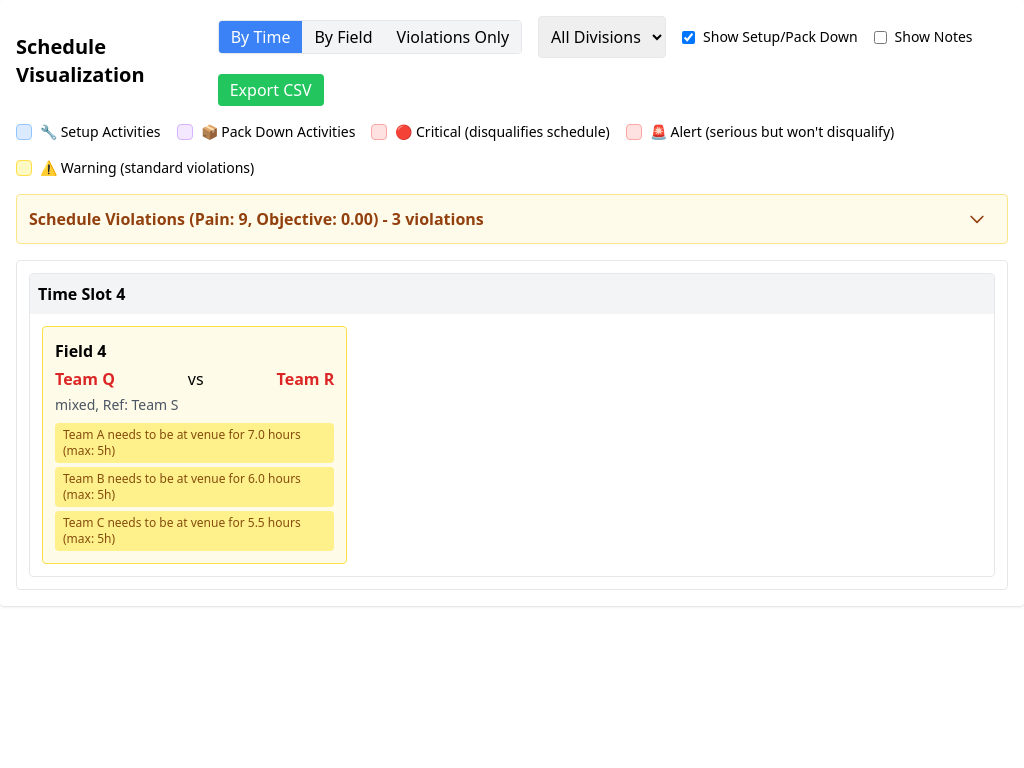
it: ScheduleVisualization › shows aggregate by-how-much summaries for quantitative limits
Click the button "Violations Only" at (453, 37), box [385, 21, 521, 53]
(page scrolled)
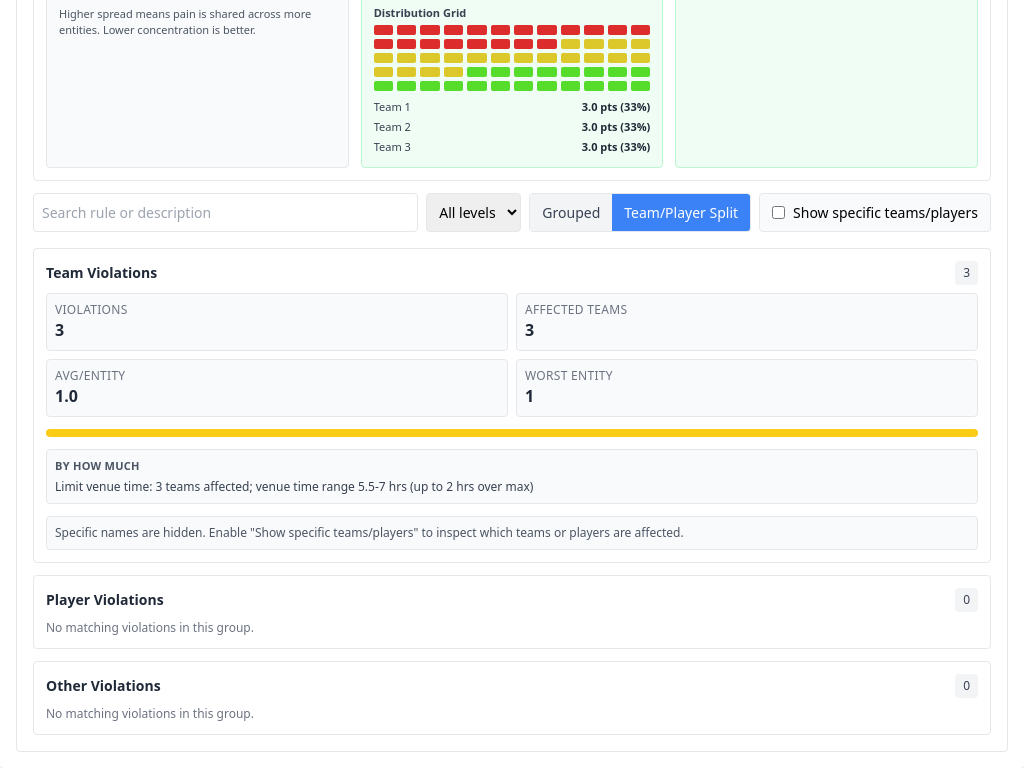
Now the text "By How Much" is shown, box [55, 458, 140, 473]
Now the text "Limit venue time:" is shown, box [55, 478, 152, 494]
Now the text "3 teams affected; venue time range 5.5-7 hrs (up to 2 hrs over max)" is shown, box [156, 478, 533, 494]
